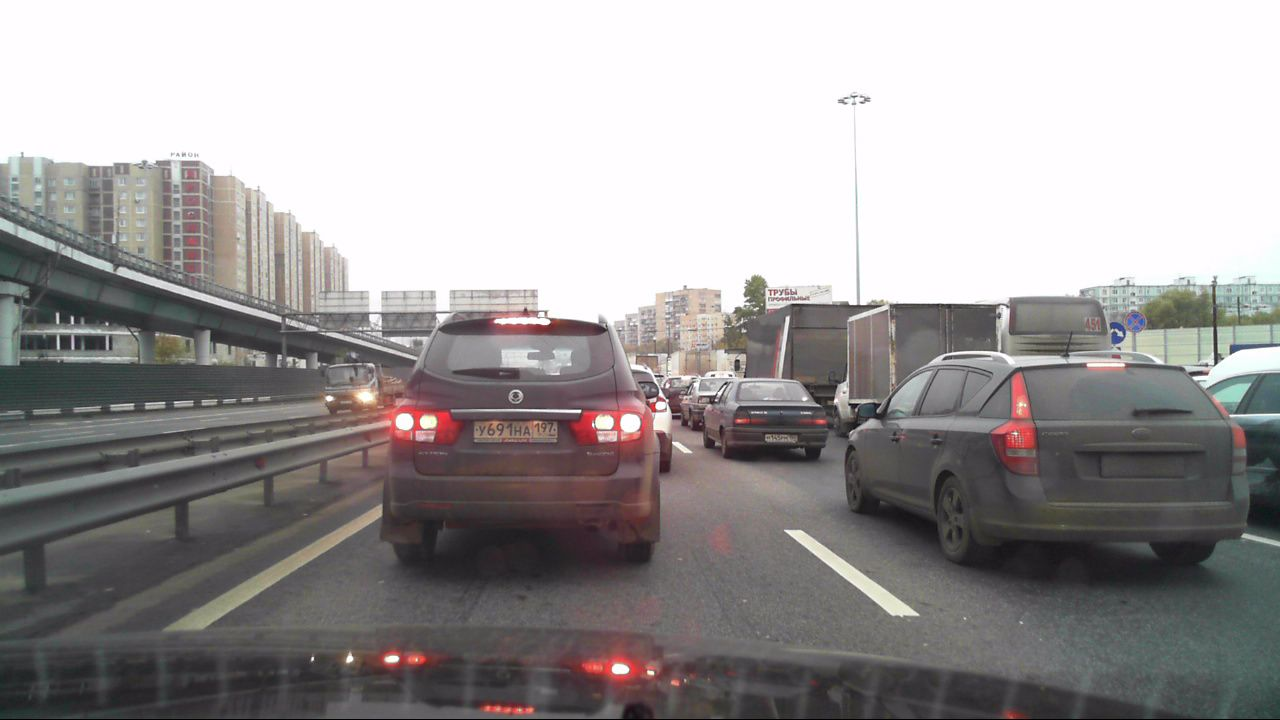No Parking: (1123, 313, 1144, 334)
